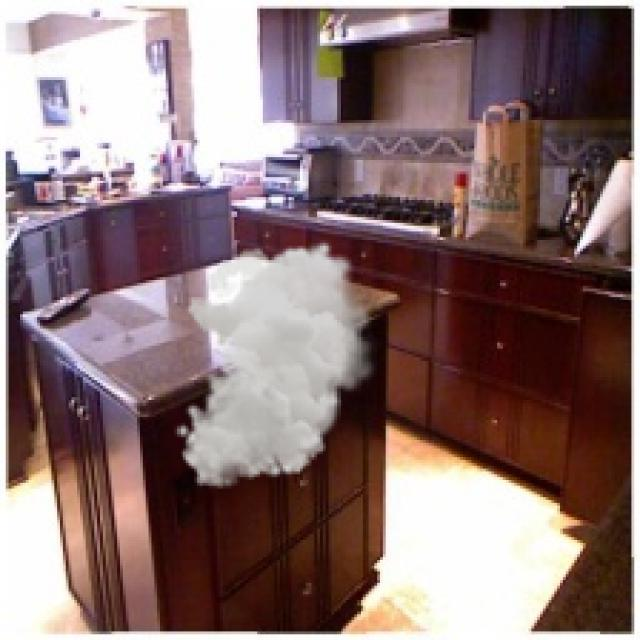smoke: (174, 240, 380, 489)
